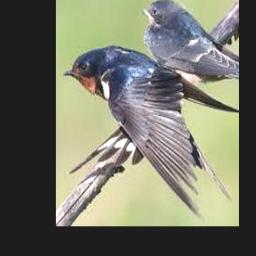Swallow: (63, 45, 239, 218), (144, 0, 239, 77)
